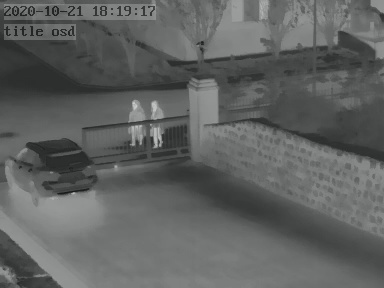person: (150, 99, 165, 148), (130, 100, 144, 149)
vehicle: (5, 137, 99, 204)
